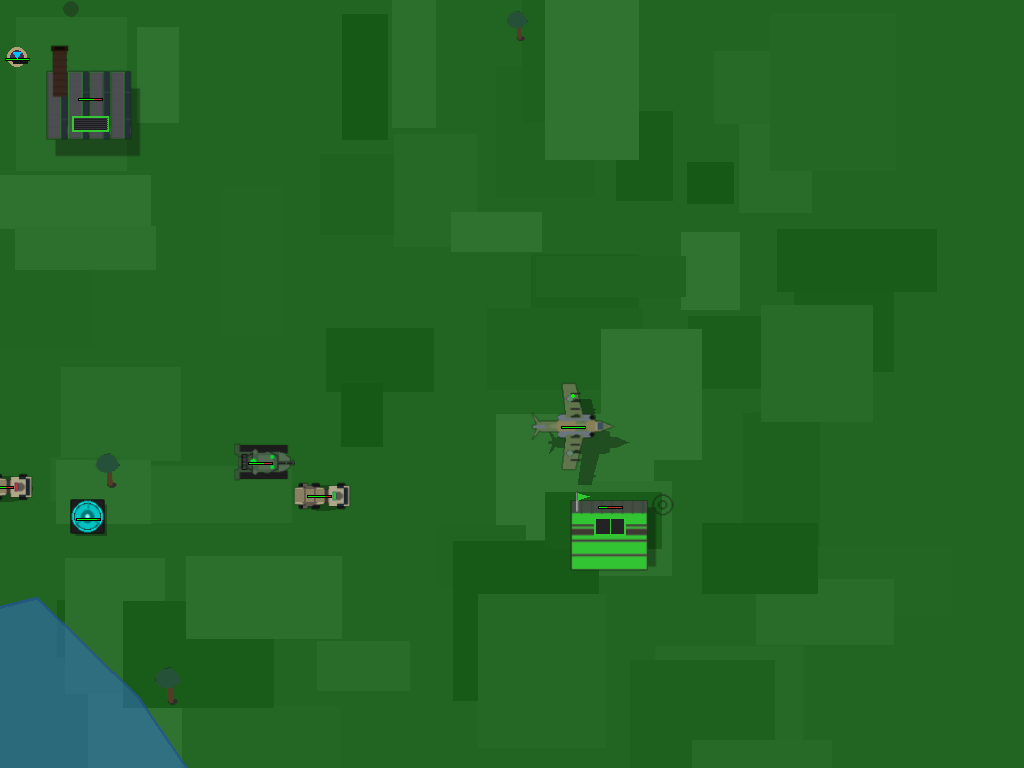AttackPlane_rus: (546, 398, 600, 452)
Barracks: (562, 457, 658, 553)
FactoryBuilding: (33, 40, 146, 153)
HIMARS: (0, 458, 54, 512), (292, 467, 346, 521)
Lake: (0, 598, 203, 768)
LaserTurret: (61, 490, 115, 544)
M1A2_rus: (230, 431, 289, 490)
RocketTrooper: (0, 40, 33, 73)
